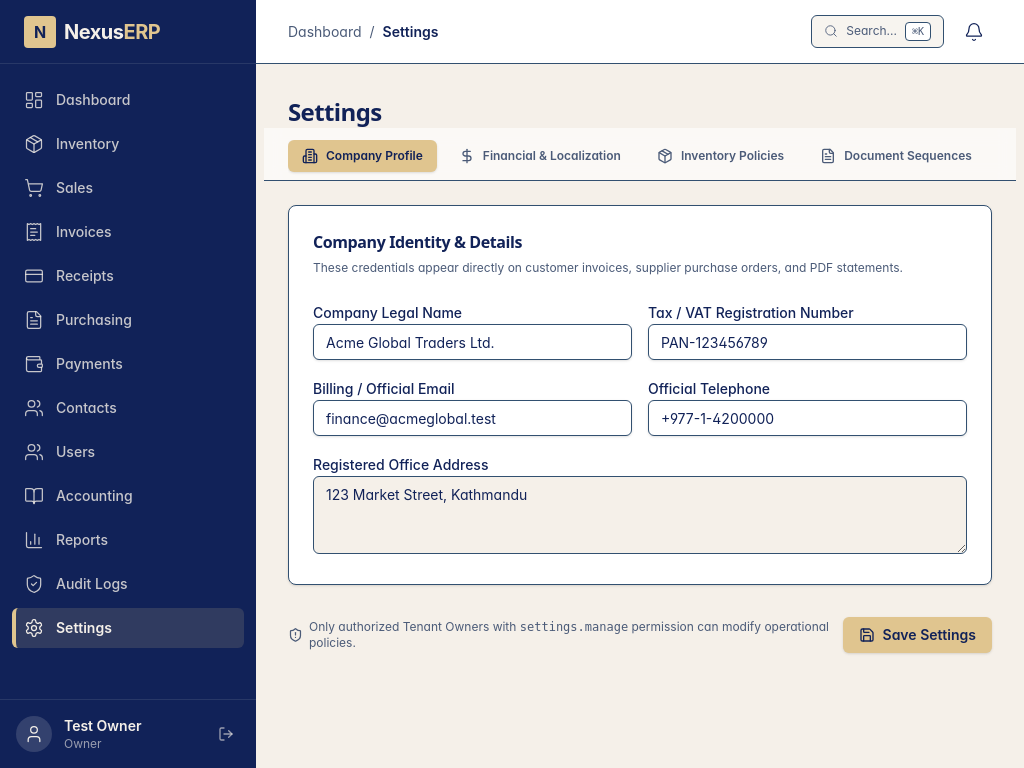
Test: SettingsIndex Component › submits updated settings successfully when form is submitted
The image size is (1024, 768).
Replace the text in the field labelled "Company Legal Name" with "Acme International Traders": (472, 342) x1=313 y1=324 x2=632 y2=360
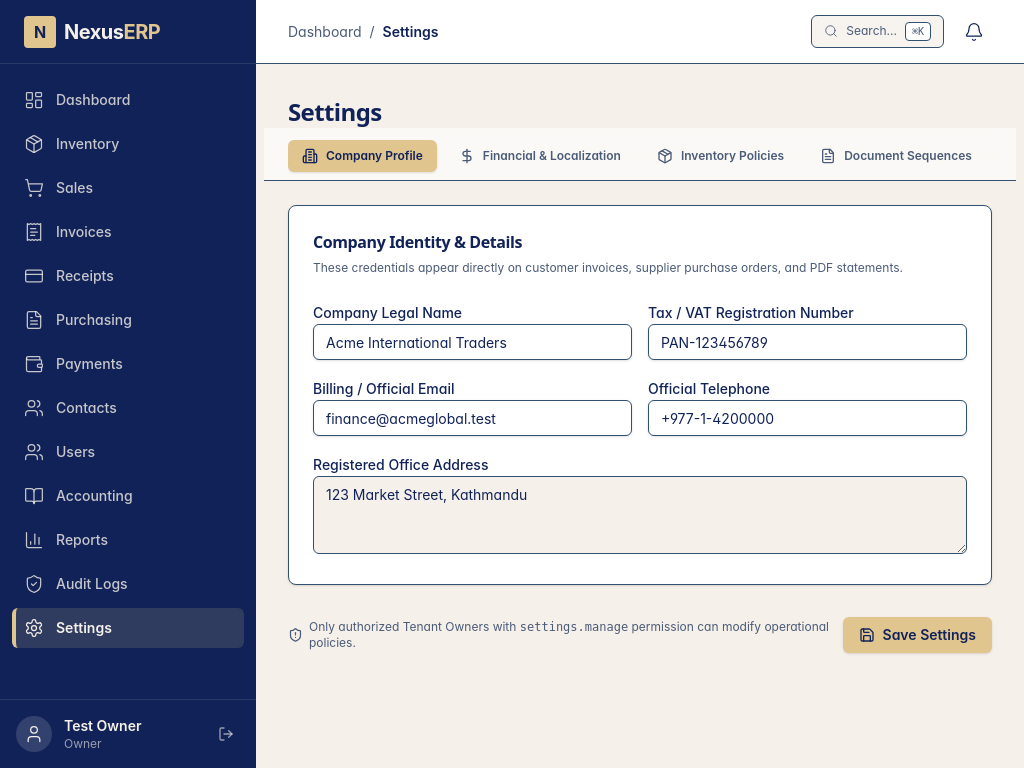
Click the button "Save Settings": (917, 635) x1=842 y1=617 x2=992 y2=653
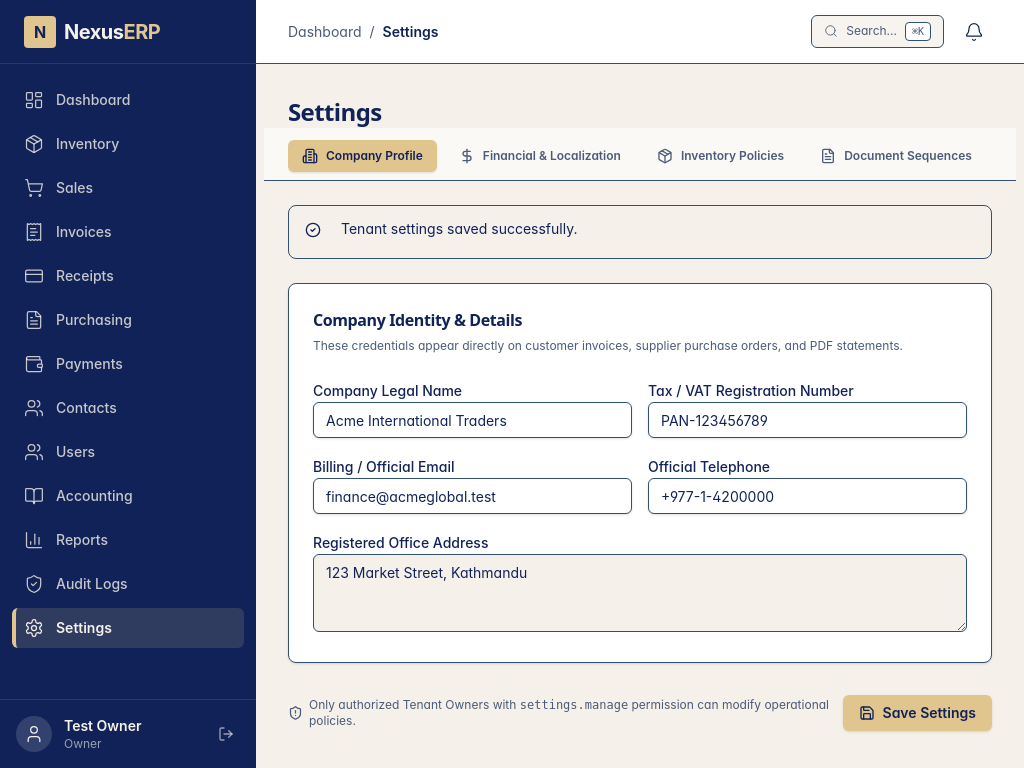
Check: the text "Tenant settings saved successfully." is shown, box x1=341 y1=220 x2=578 y2=237
